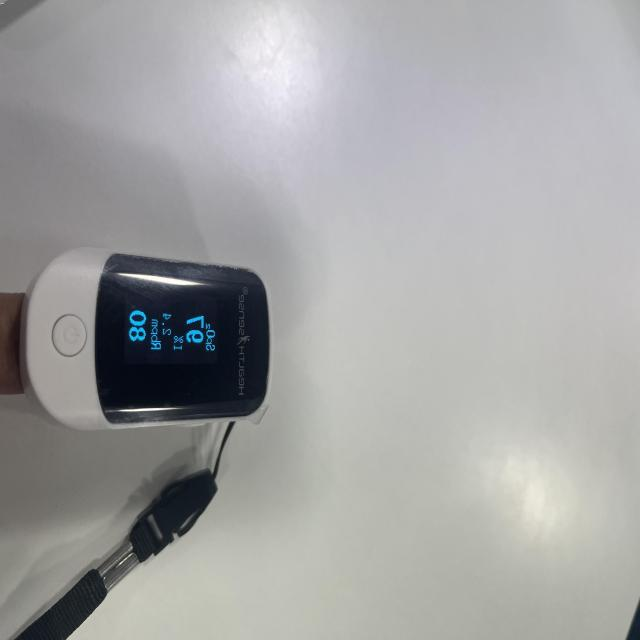spo2: (17, 250, 272, 432)
